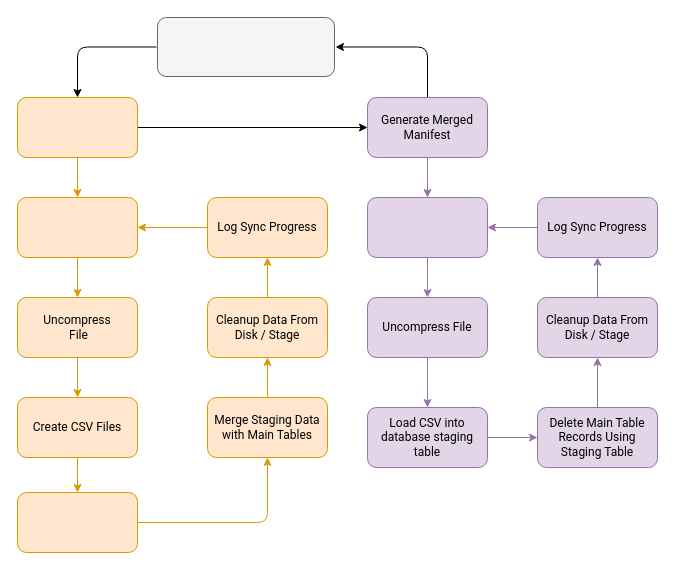
This 675x570 diagram has some shape labels left out. Each missing label, with the centre of its shape:
"Download Entity Manifest" goes at [77,127].
"Download Next Unsynced Merge_ID File" goes at [427,227].
"Download Next Unsynced Snapshot File" goes at [77,227].
"Entities (authors, concepts, works, etc)" goes at [245,46].
"Load CSV into database staging tables" goes at [77,522].
